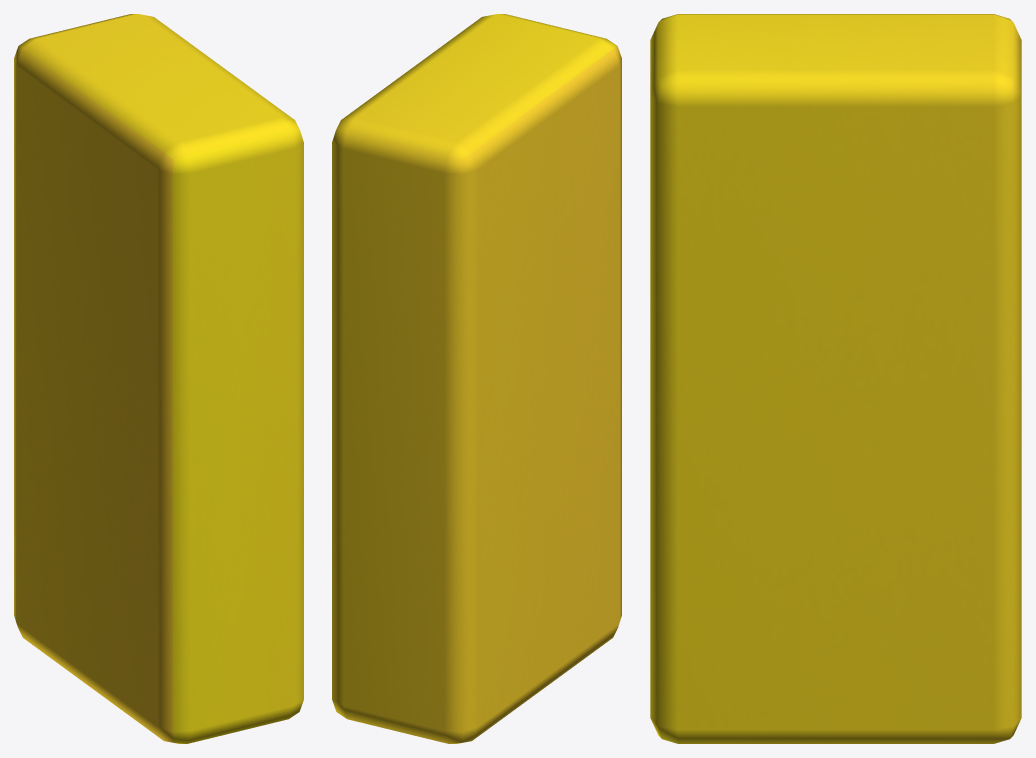
The model's file is BlockWallYellow.fbx.
3 renders of one model, left to right at view 1: azimuth 30°, elevation 25°; view 2: azimuth 150°, elevation 25°; view 3: azimuth 270°, elevation 25°, orthographic. The views are drawn at different scales.
Parts seen in each view (by area): view 1: Cube.010; view 2: Cube.010; view 3: Cube.010.
Boxes of the visible parts, x1,y1,x2,y2 form: Cube.010: (14, 14, 303, 743); Cube.010: (332, 14, 621, 743); Cube.010: (650, 14, 1021, 743).
Size of the model in its own units: 100 by 400 by 200.
